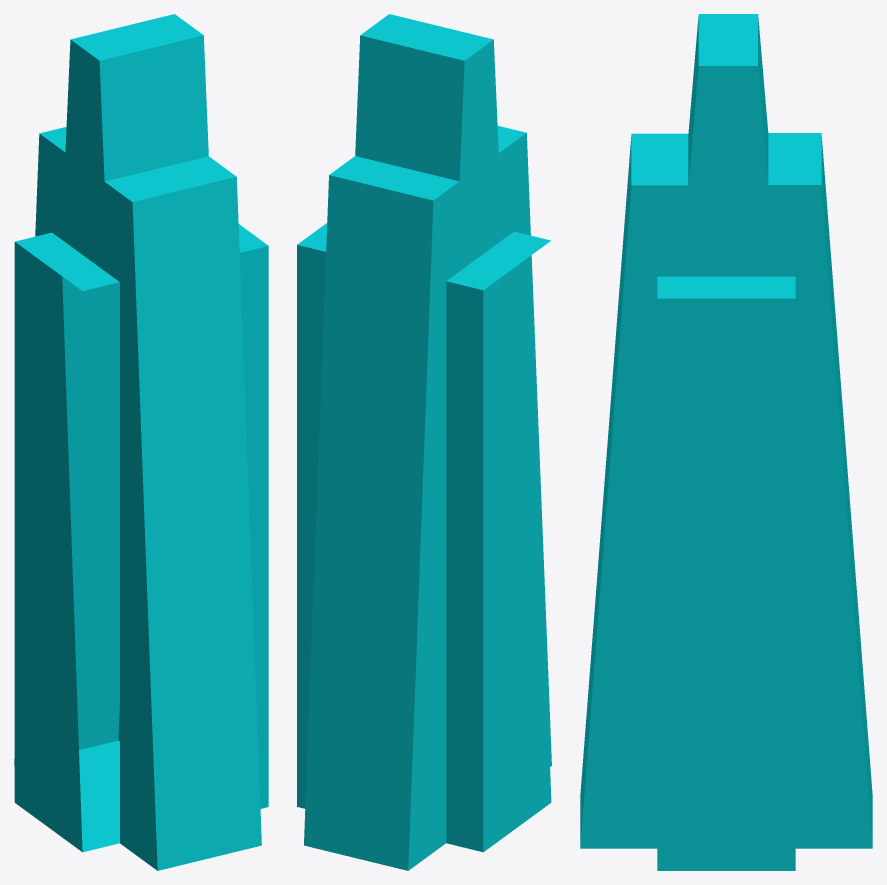
File: Brutalist_column.fbx
3 renders of one model, left to right at view 1: azimuth 30°, elevation 25°; view 2: azimuth 150°, elevation 25°; view 3: azimuth 270°, elevation 25°, orthographic.
Parts seen in each view (by area): view 1: Brutalist_column; view 2: Brutalist_column; view 3: Brutalist_column.
Part boxes in pixels (<box>): Brutalist_column: <box>14,14,268,870</box>; Brutalist_column: <box>297,14,551,870</box>; Brutalist_column: <box>580,14,872,870</box>.
Bounding box in the file's own units: 125 × 493 × 167.
